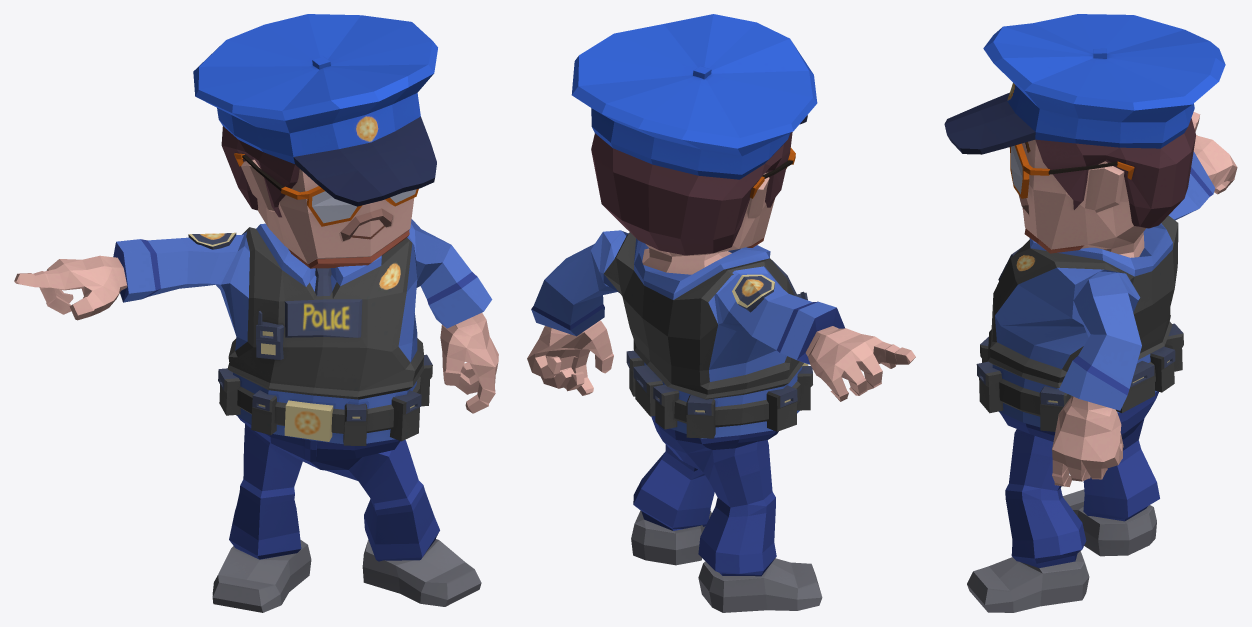
The model's file is SK_Lowpoly_31.gltf.
3 views of the same model, side by side, from view 1: azimuth 30°, elevation 25°; view 2: azimuth 150°, elevation 25°; view 3: azimuth 270°, elevation 25° (orthographic).
Visible parts, largest first — view 1: SK_Lowpoly_Male_031_Pose_20_StaticMeshComponent0; view 2: SK_Lowpoly_Male_031_Pose_20_StaticMeshComponent0; view 3: SK_Lowpoly_Male_031_Pose_20_StaticMeshComponent0.
Boxes of the visible parts, <box> form: SK_Lowpoly_Male_031_Pose_20_StaticMeshComponent0: <box>14,14,498,612</box>; SK_Lowpoly_Male_031_Pose_20_StaticMeshComponent0: <box>527,14,915,612</box>; SK_Lowpoly_Male_031_Pose_20_StaticMeshComponent0: <box>944,14,1237,612</box>.
Bounding box in the file's own units: 1.24 × 1.44 × 0.7323.
Materials: 1 (1 with a texture image).
